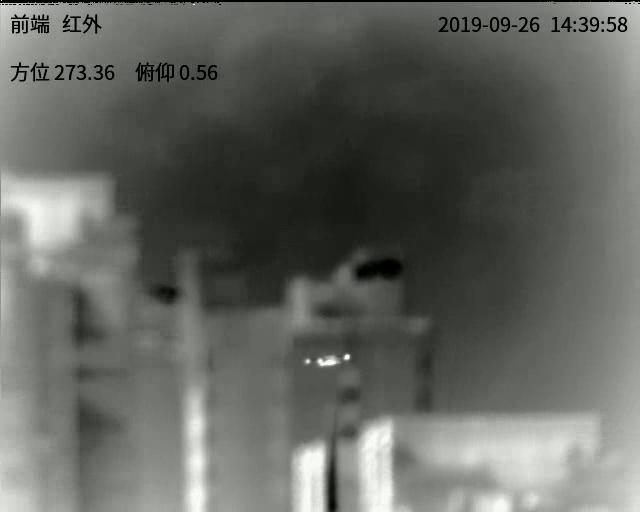DRONE: (304, 352, 351, 368)
